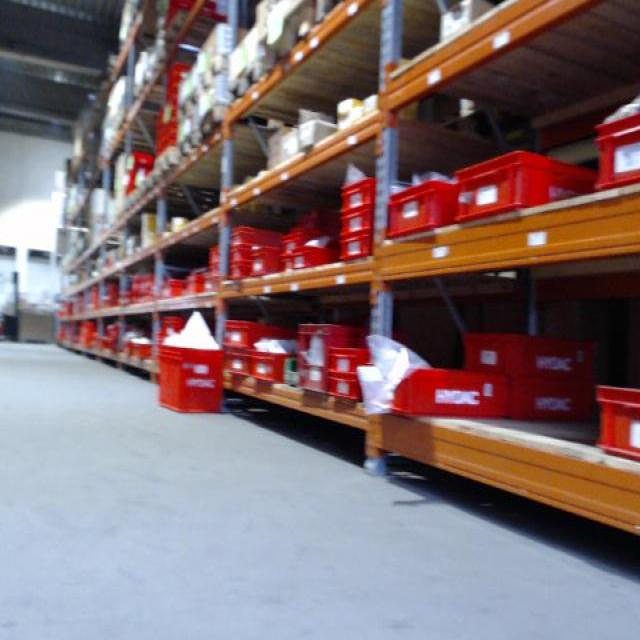pallet: (228, 57, 278, 114), (196, 55, 234, 98), (198, 103, 234, 146), (150, 145, 178, 183), (176, 126, 201, 165), (173, 86, 199, 120)
pallet_truck: (2, 262, 25, 347)
small_load_carrier: (449, 150, 591, 229), (462, 327, 601, 387), (296, 324, 370, 403), (392, 368, 495, 420), (154, 340, 226, 413), (390, 178, 460, 246), (587, 103, 639, 189), (590, 376, 640, 465), (489, 387, 601, 418), (220, 312, 291, 349), (328, 374, 386, 408), (342, 176, 392, 213), (323, 348, 386, 376), (338, 206, 398, 235), (337, 235, 396, 264), (250, 346, 286, 383), (295, 245, 345, 271), (157, 315, 192, 352), (250, 244, 278, 280), (223, 349, 255, 380), (182, 269, 208, 298), (277, 231, 302, 261), (160, 279, 187, 304), (230, 224, 256, 248), (277, 259, 304, 278), (227, 261, 249, 281), (207, 242, 226, 262), (210, 262, 226, 282), (228, 248, 257, 259)
